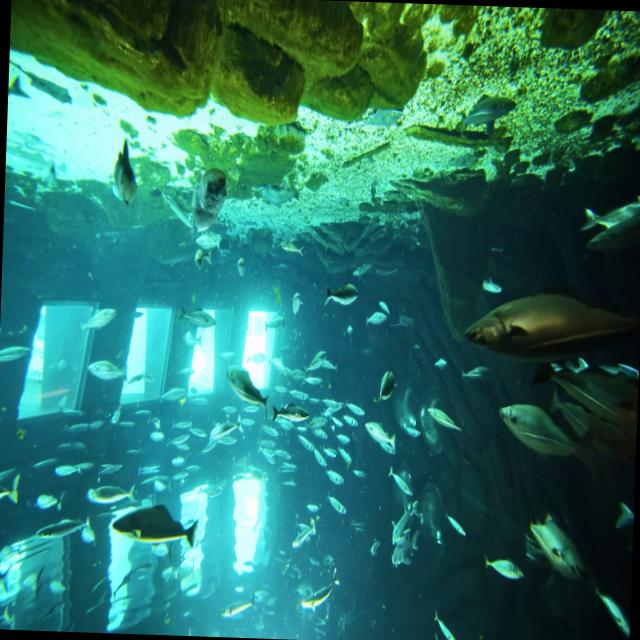fish: (459, 286, 640, 364), (488, 396, 590, 478), (106, 496, 202, 554), (80, 468, 140, 515), (82, 345, 134, 399), (220, 361, 272, 412), (111, 137, 141, 214), (78, 294, 119, 346), (34, 514, 90, 548), (297, 575, 339, 618), (268, 396, 314, 434), (482, 546, 524, 584), (422, 399, 459, 442), (321, 277, 362, 315), (362, 416, 398, 459), (222, 590, 266, 624), (428, 607, 468, 640), (0, 461, 23, 518), (376, 367, 400, 413), (386, 466, 410, 507), (288, 282, 308, 324), (442, 509, 468, 540)
